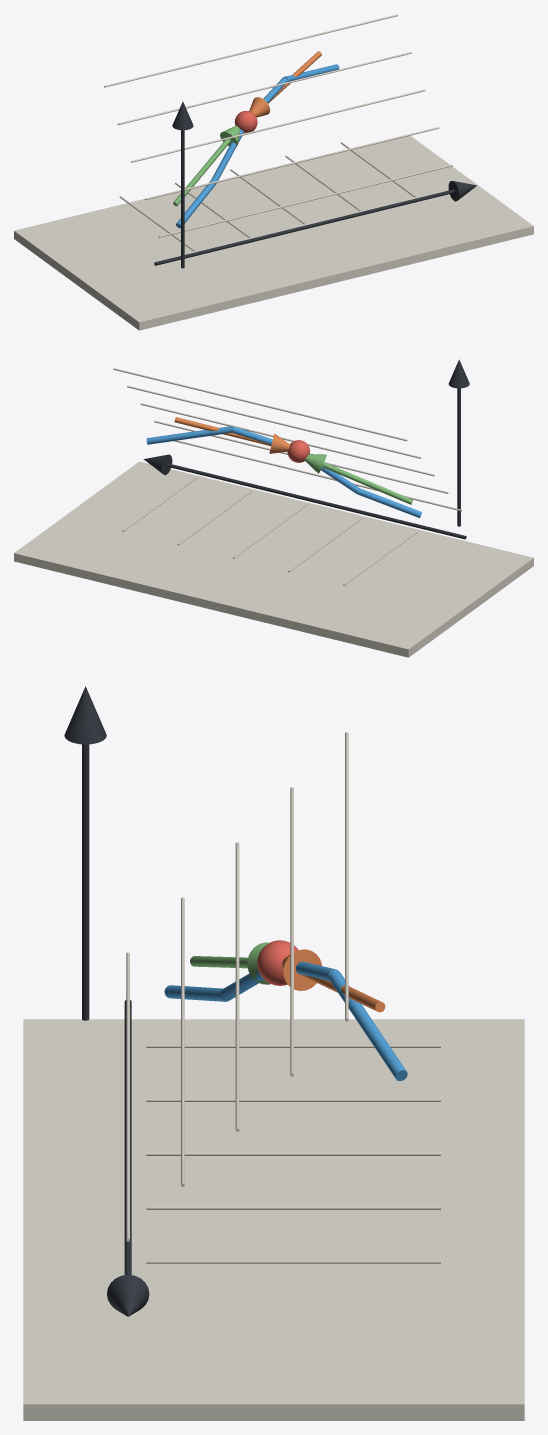
The model's file is math-advanced-math-calc-limit.glb.
3 views of the same model, one above another, from view 1: azimuth 30°, elevation 25°; view 2: azimuth 150°, elevation 25°; view 3: azimuth 270°, elevation 25° (orthographic). The views are drawn at different scales.
Visible parts, largest first — view 1: advanced-math-base, math-calc-limit-x-axis-shaft, math-calc-limit-horizontal-grid-5, math-calc-limit-horizontal-grid-3, math-calc-limit-horizontal-grid-1, math-calc-limit-horizontal-grid-2, math-calc-limit-horizontal-grid-4, math-calc-limit-y-axis-shaft, left-approach-arrow-shaft, limit-target-open-point; view 2: advanced-math-base, math-calc-limit-x-axis-shaft, math-calc-limit-horizontal-grid-4, math-calc-limit-horizontal-grid-5, math-calc-limit-horizontal-grid-3, smooth-function-curve-segment-4, math-calc-limit-horizontal-grid-1, left-approach-arrow-shaft, math-calc-limit-horizontal-grid-2, math-calc-limit-y-axis-shaft, smooth-function-curve-segment-1, right-approach-arrow-shaft (+2 smaller); view 3: advanced-math-base, math-calc-limit-y-axis-shaft, smooth-function-curve-segment-4, math-calc-limit-x-axis-shaft, math-calc-limit-horizontal-grid-3, math-calc-limit-y-axis-head, math-calc-limit-x-axis-head, math-calc-limit-vertical-grid-4, math-calc-limit-vertical-grid-5, math-calc-limit-vertical-grid-3, math-calc-limit-horizontal-grid-4, math-calc-limit-horizontal-grid-1 (+6 smaller).
Boxes of the visible parts, x1=… form: advanced-math-base: x1=14, y1=135, x2=533, y2=330; math-calc-limit-x-axis-shaft: x1=154, y1=189, x2=454, y2=265; math-calc-limit-horizontal-grid-5: x1=104, y1=14, x2=398, y2=87; math-calc-limit-horizontal-grid-3: x1=131, y1=89, x2=425, y2=162; math-calc-limit-horizontal-grid-1: x1=158, y1=164, x2=452, y2=237; math-calc-limit-horizontal-grid-2: x1=145, y1=127, x2=439, y2=200; math-calc-limit-horizontal-grid-4: x1=117, y1=52, x2=411, y2=124; math-calc-limit-y-axis-shaft: x1=181, y1=130, x2=184, y2=268; left-approach-arrow-shaft: x1=173, y1=139, x2=230, y2=206; limit-target-open-point: x1=234, y1=110, x2=257, y2=133; advanced-math-base: x1=14, y1=461, x2=533, y2=657; math-calc-limit-x-axis-shaft: x1=166, y1=463, x2=466, y2=539; math-calc-limit-horizontal-grid-4: x1=127, y1=385, x2=420, y2=458; math-calc-limit-horizontal-grid-5: x1=113, y1=368, x2=407, y2=441; math-calc-limit-horizontal-grid-3: x1=140, y1=403, x2=434, y2=476; smooth-function-curve-segment-4: x1=146, y1=426, x2=232, y2=444; math-calc-limit-horizontal-grid-1: x1=173, y1=440, x2=462, y2=511; left-approach-arrow-shaft: x1=322, y1=462, x2=412, y2=504; math-calc-limit-horizontal-grid-2: x1=154, y1=420, x2=448, y2=493; math-calc-limit-y-axis-shaft: x1=457, y1=388, x2=460, y2=526; smooth-function-curve-segment-1: x1=357, y1=488, x2=421, y2=517; right-approach-arrow-shaft: x1=174, y1=417, x2=271, y2=446; advanced-math-base: x1=23, y1=1019, x2=524, y2=1420; math-calc-limit-y-axis-shaft: x1=82, y1=744, x2=89, y2=1020; smooth-function-curve-segment-4: x1=328, y1=970, x2=407, y2=1080; math-calc-limit-x-axis-shaft: x1=124, y1=1000, x2=131, y2=1274; math-calc-limit-horizontal-grid-3: x1=235, y1=842, x2=239, y2=1131; math-calc-limit-y-axis-head: x1=64, y1=686, x2=106, y2=744; math-calc-limit-x-axis-head: x1=107, y1=1274, x2=149, y2=1316; math-calc-limit-vertical-grid-4: x1=146, y1=1206, x2=440, y2=1209; math-calc-limit-vertical-grid-5: x1=146, y1=1260, x2=440, y2=1263; math-calc-limit-vertical-grid-3: x1=146, y1=1152, x2=440, y2=1155; math-calc-limit-horizontal-grid-4: x1=290, y1=787, x2=293, y2=1076; math-calc-limit-horizontal-grid-1: x1=126, y1=952, x2=129, y2=1241.
Size of what is drawn, in the model's own units: 3 by 1.48 by 1.65.
